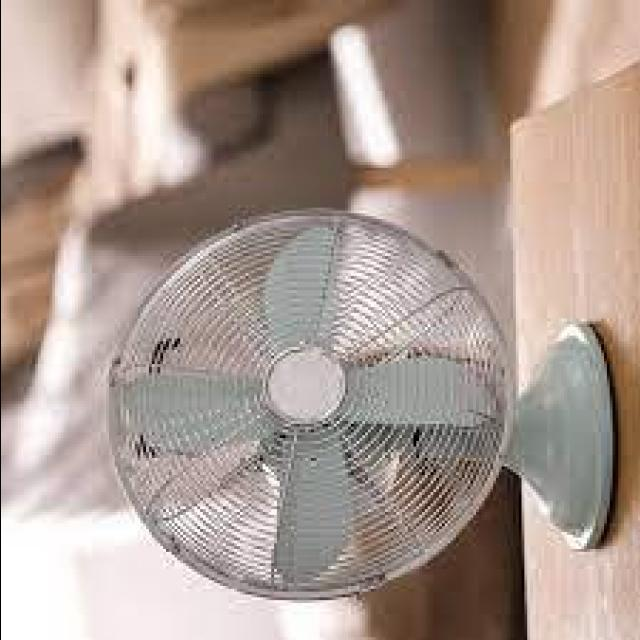fan: (111, 189, 615, 602)
